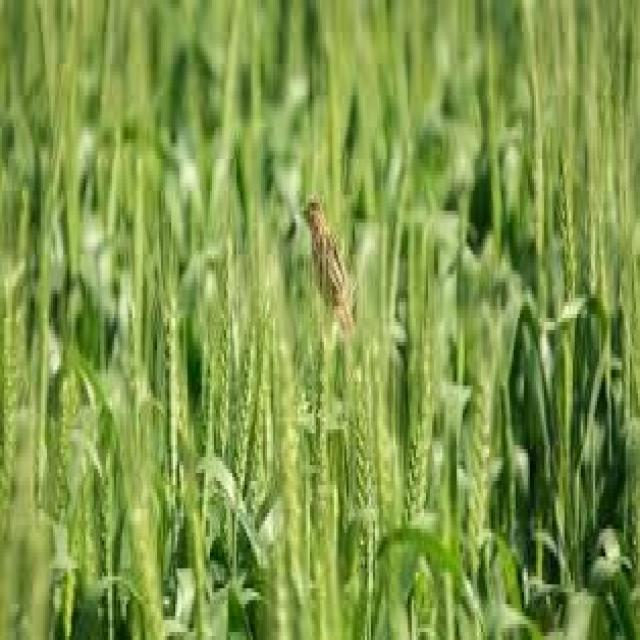bird: (298, 196, 363, 341)
